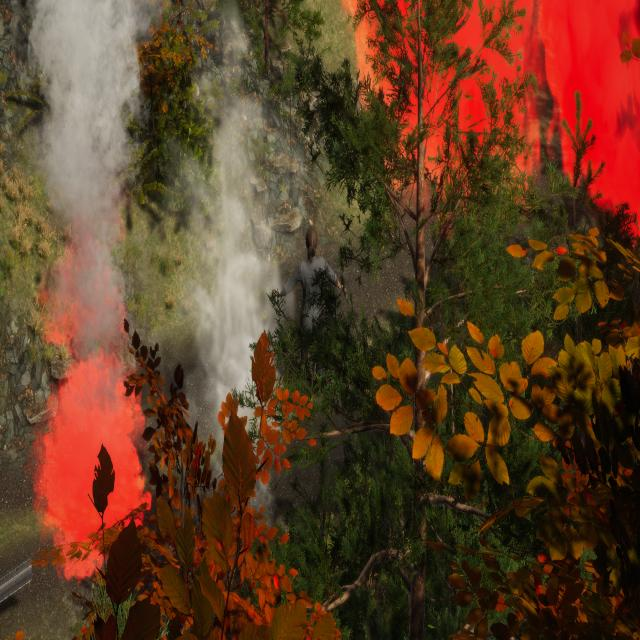Human: (270, 212, 354, 410)
